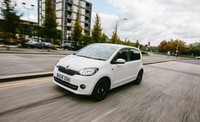car: (51, 43, 144, 100)
